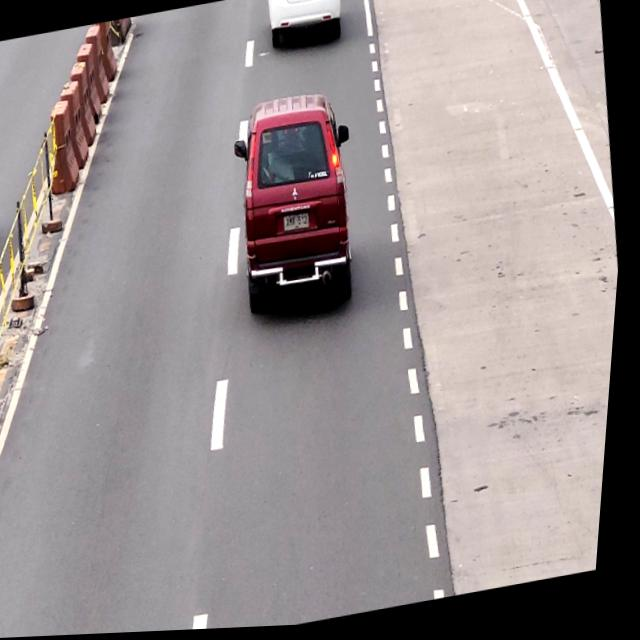Car: (227, 91, 370, 324), (262, 0, 348, 50)
License-Plate: (284, 210, 315, 239)
